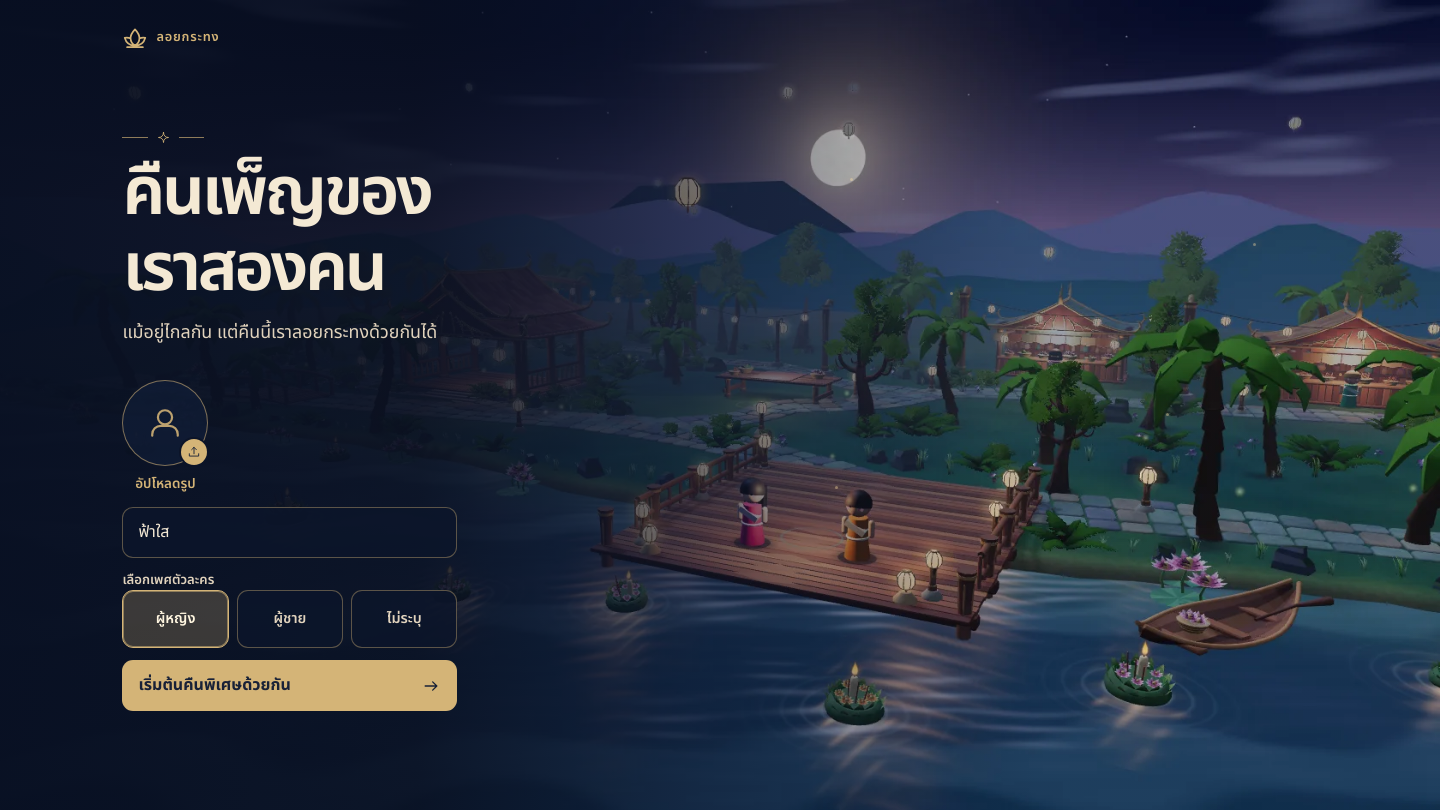
Audit remediation regression suite (LK-01 through LK-05) › LK-01 & LK-04: recovers cleanly via retry after 3D module import failure and passes reducedMotion on instantiation
Later steps or results of the test are not shown.
Click the button "เริ่มต้นคืนพิเศษด้วยกัน" at (290, 686), box x1=122 y1=660 x2=457 y2=711
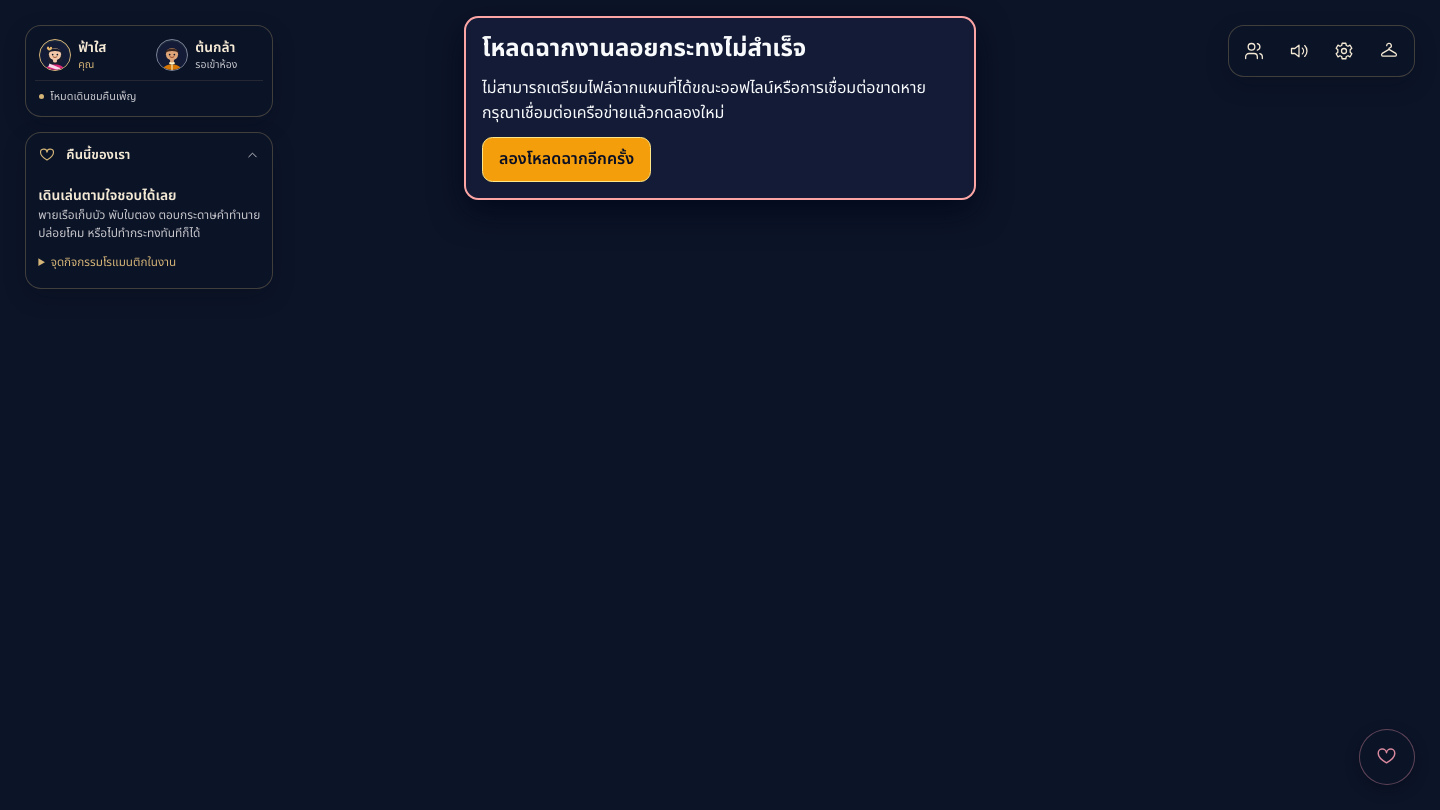
Expected: the message shows "โหลดฉากงานลอยกระทงไม่สำเร็จ", x1=482 y1=31 x2=806 y2=67
